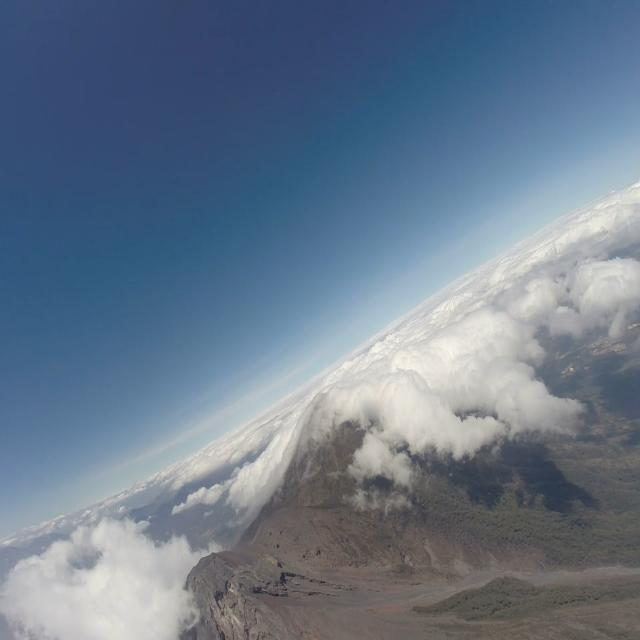Summit: (184, 546, 269, 640)
